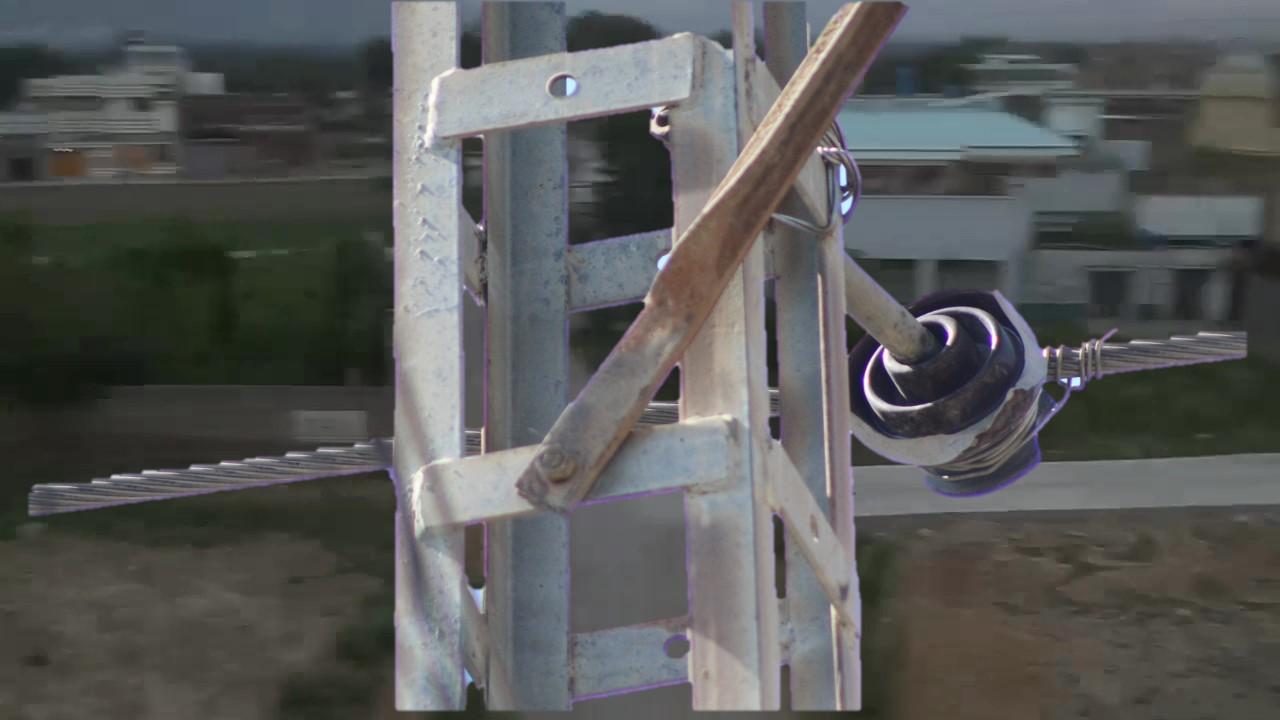defect_pin: (846, 269, 1070, 501)
